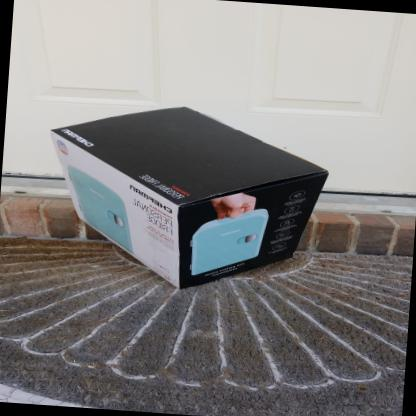box: (49, 103, 331, 290)
